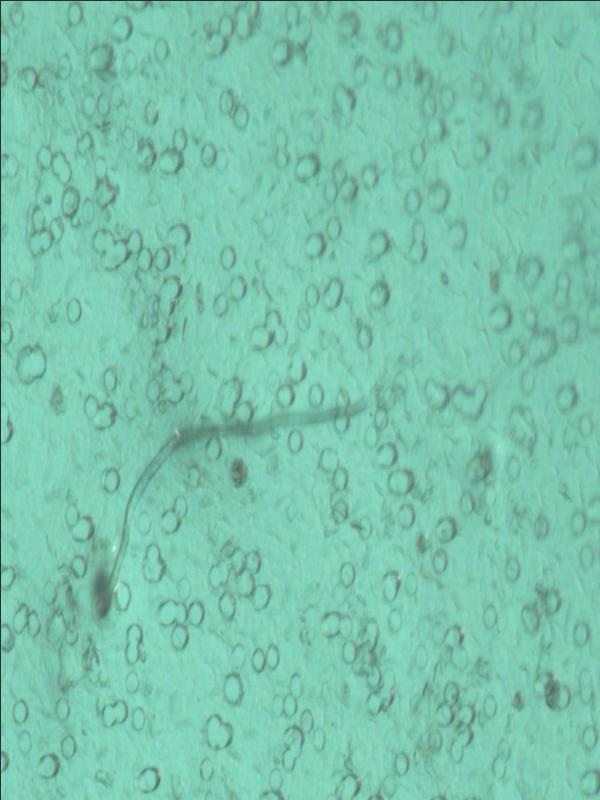microplastic: (1, 3, 598, 799), (90, 378, 368, 623)
